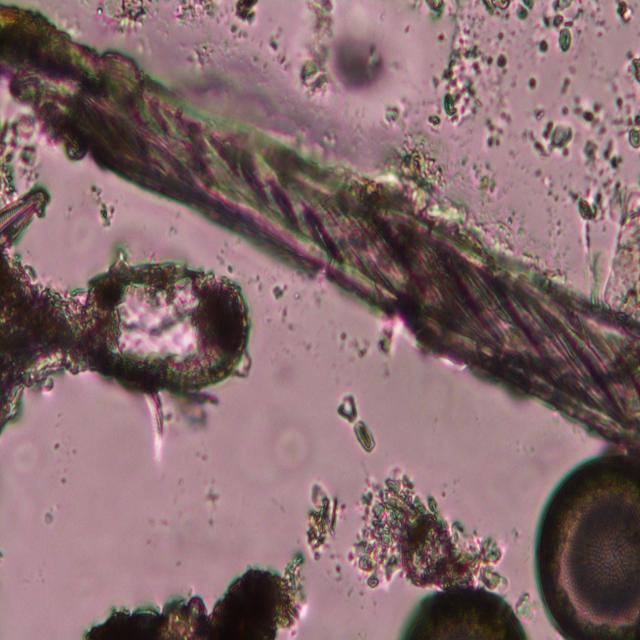Background material: (0, 242, 263, 441), (82, 546, 308, 637), (356, 469, 508, 595), (428, 42, 512, 127), (380, 136, 456, 205), (572, 94, 624, 182), (331, 26, 392, 101), (604, 186, 640, 310), (297, 0, 338, 98), (300, 478, 346, 559), (266, 406, 320, 468), (0, 106, 38, 194), (333, 390, 378, 452), (536, 1, 580, 59), (568, 191, 616, 231), (526, 122, 574, 160), (82, 177, 116, 230), (99, 0, 159, 30), (175, 1, 223, 31), (609, 99, 640, 144), (476, 0, 535, 23), (267, 23, 291, 73), (12, 434, 38, 478), (538, 166, 560, 217), (269, 276, 301, 310), (336, 334, 374, 361), (471, 161, 497, 200), (232, 1, 261, 32), (374, 321, 397, 360), (194, 482, 221, 515), (380, 103, 404, 135), (559, 62, 578, 101), (481, 120, 506, 146), (613, 1, 637, 27), (51, 432, 71, 462), (423, 1, 444, 23), (40, 517, 55, 534), (527, 75, 539, 90)
Diatom: (533, 450, 640, 638), (400, 582, 529, 638), (0, 190, 44, 246)
Natural material: (0, 8, 640, 449)
